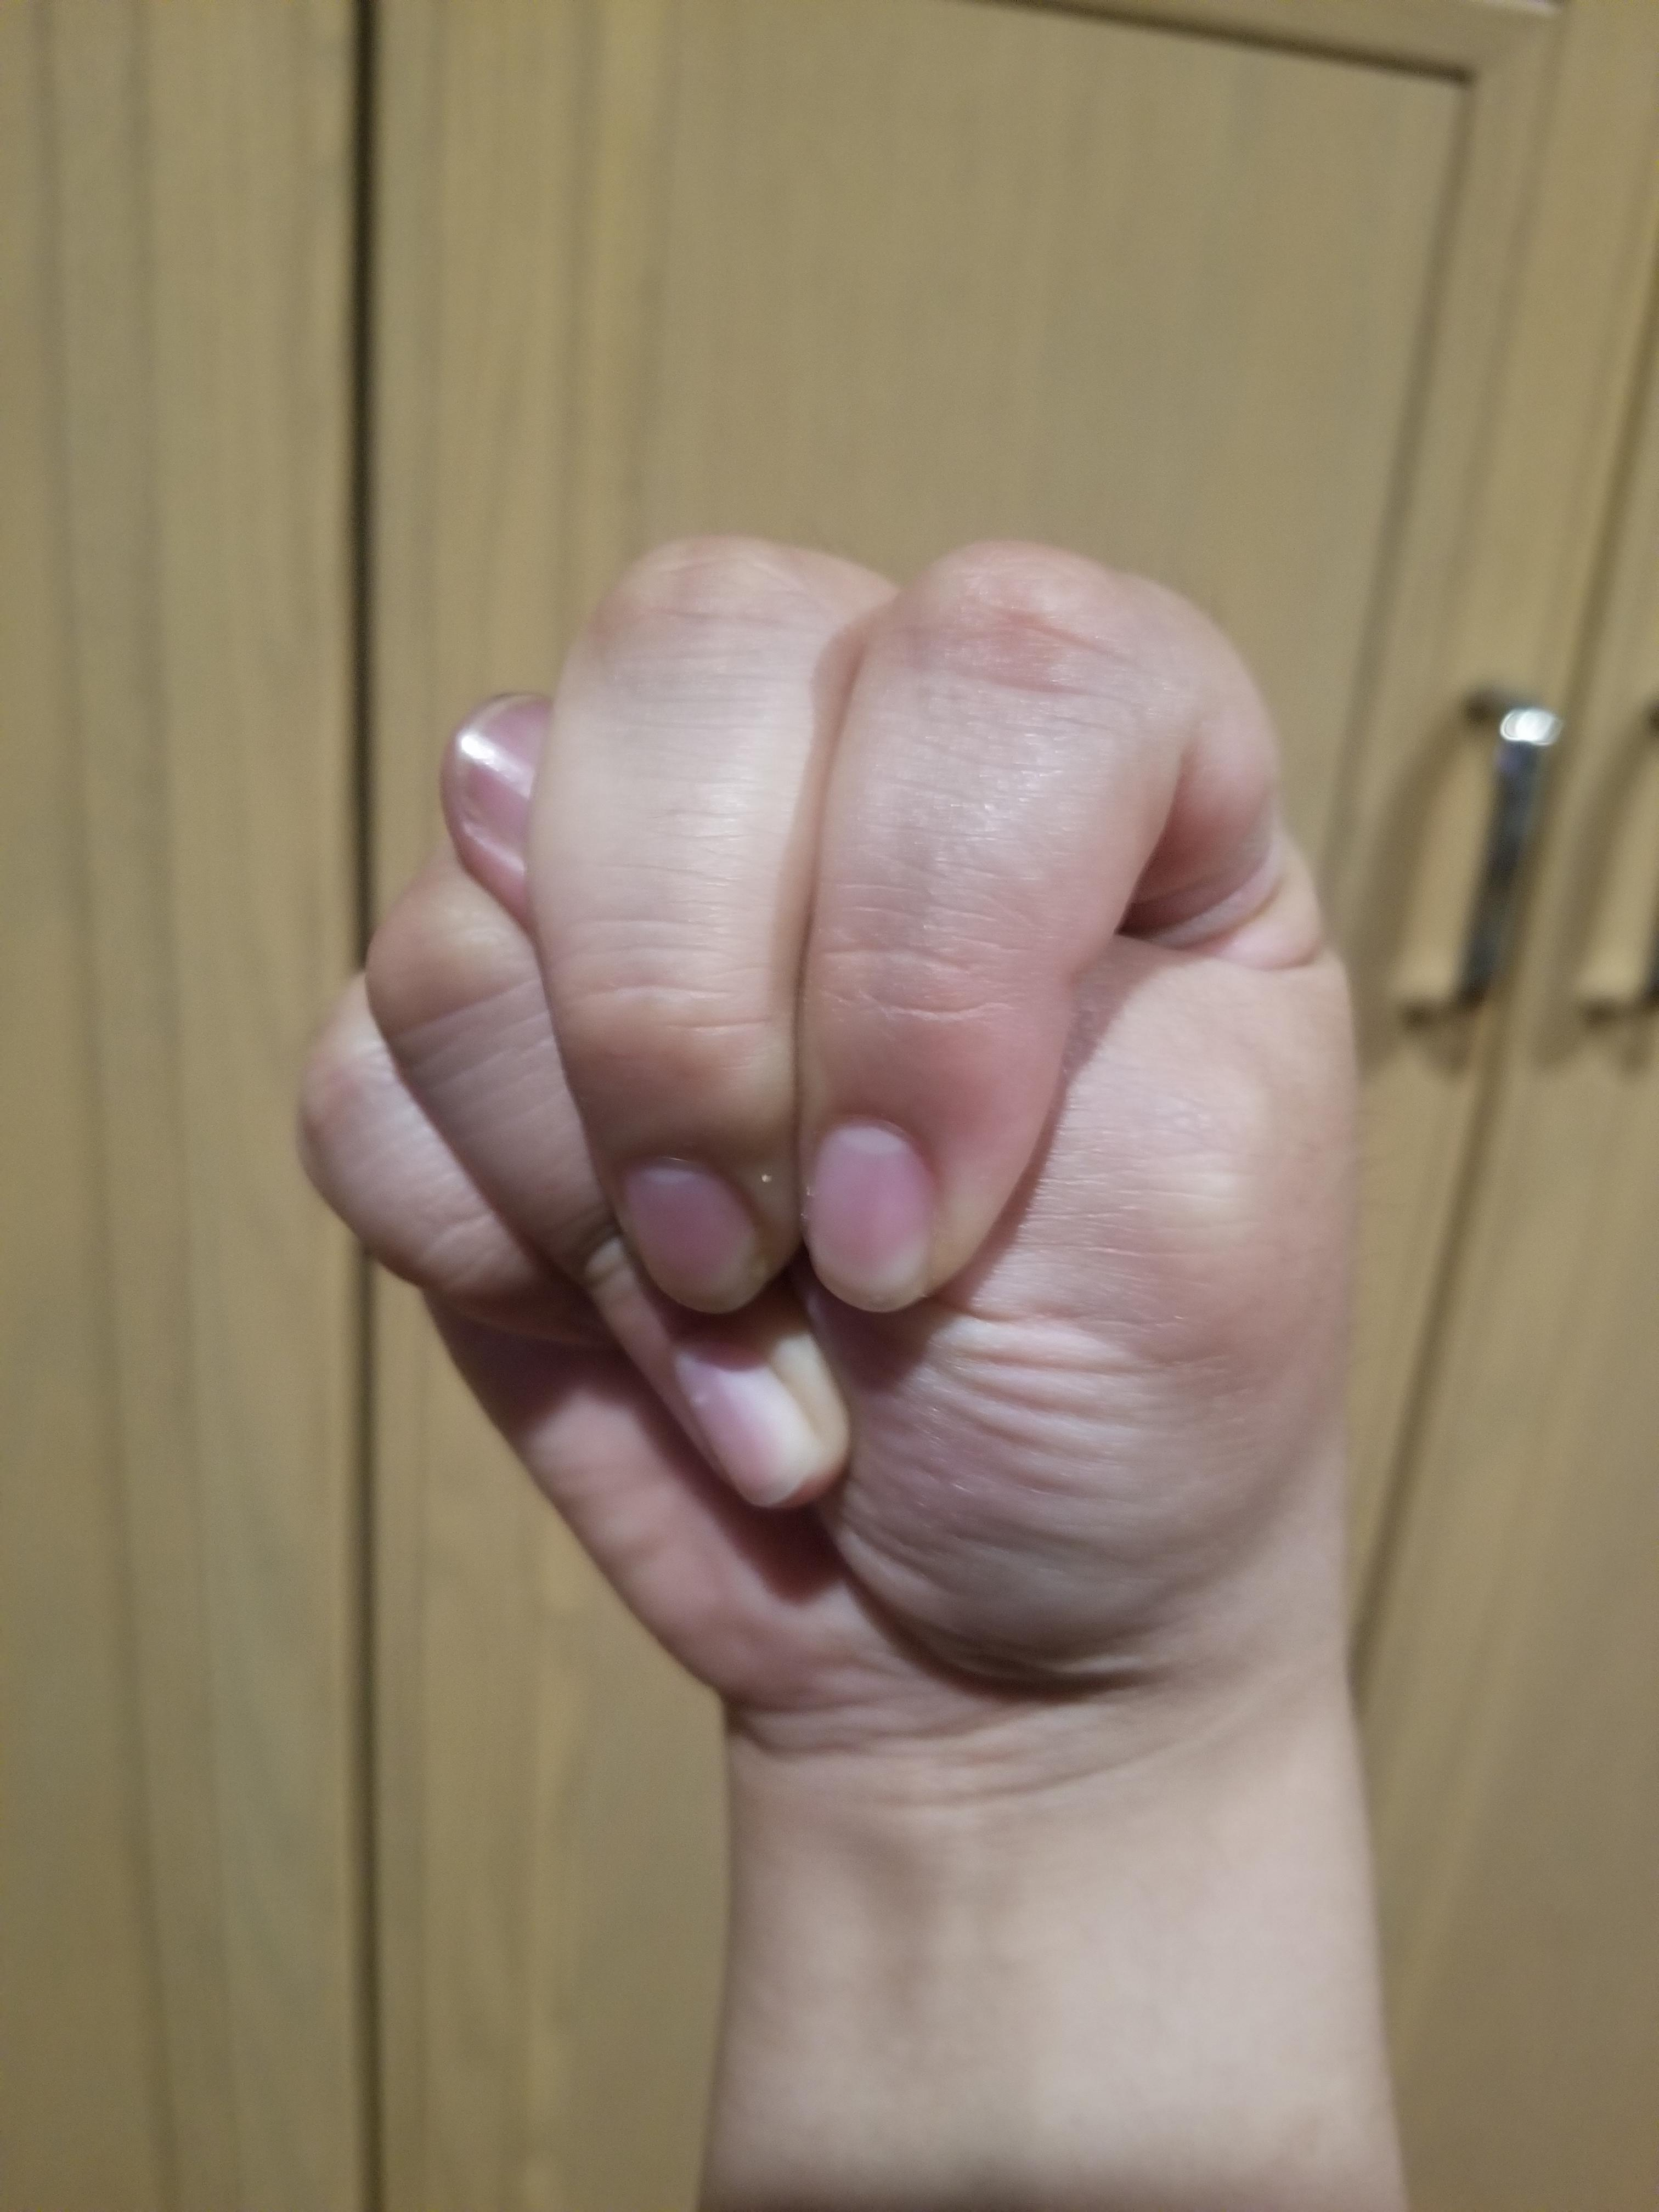N: (260, 500, 1378, 1730)
